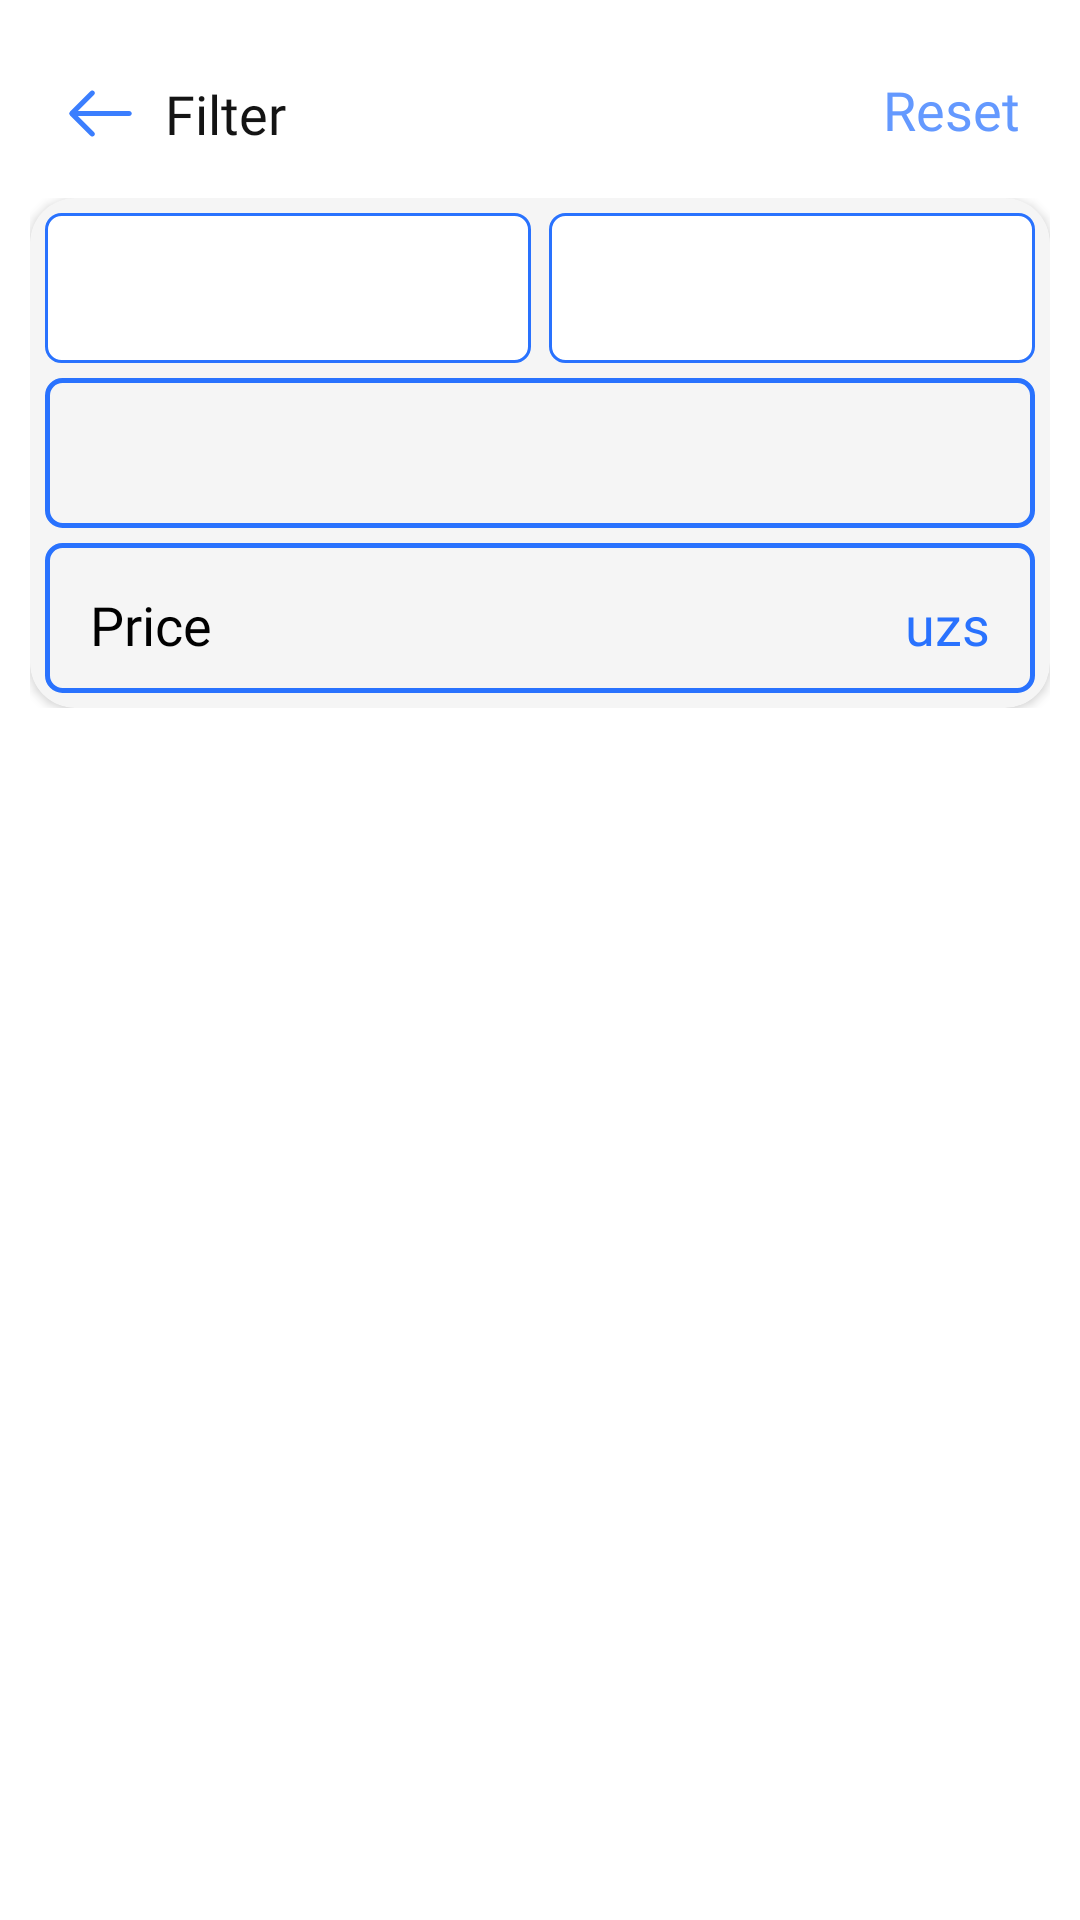

Where icons sit on this 1080 x 1920 app screen, as region(x1, y1, x2, y2):
back: region(69, 90, 132, 137)
